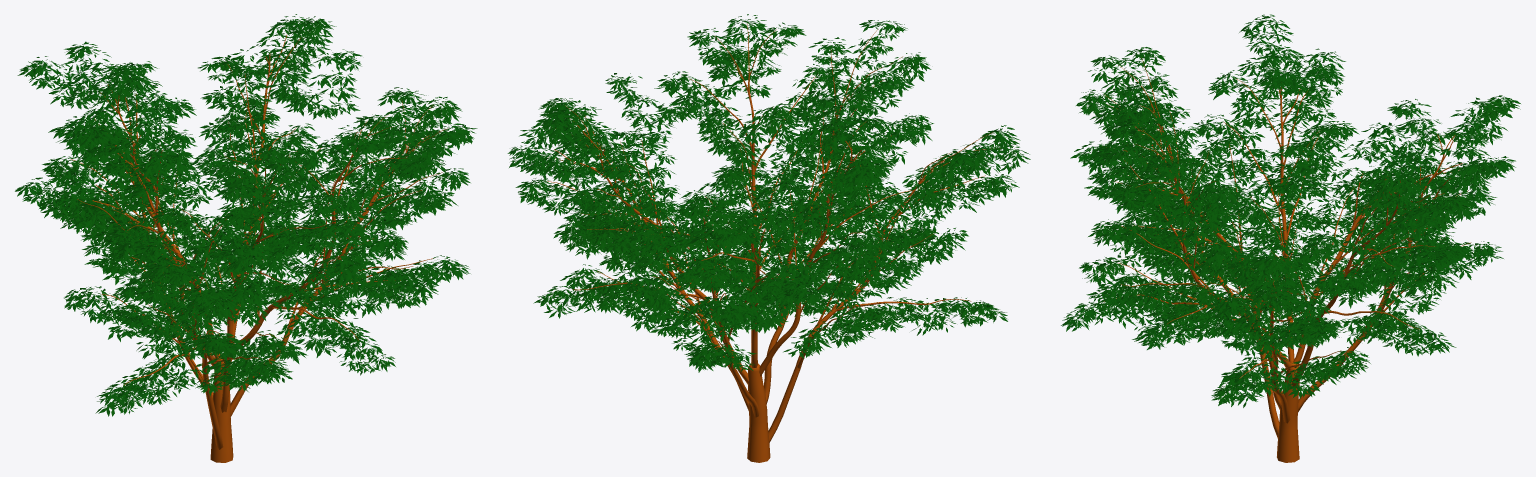
File: tree.glb
3 views of the same model, side by side, from view 1: azimuth 30°, elevation 25°; view 2: azimuth 150°, elevation 25°; view 3: azimuth 270°, elevation 25° (orthographic). The views are drawn at different scales.
Size of the model in its own units: 3.02 by 2.55 by 2.8.
